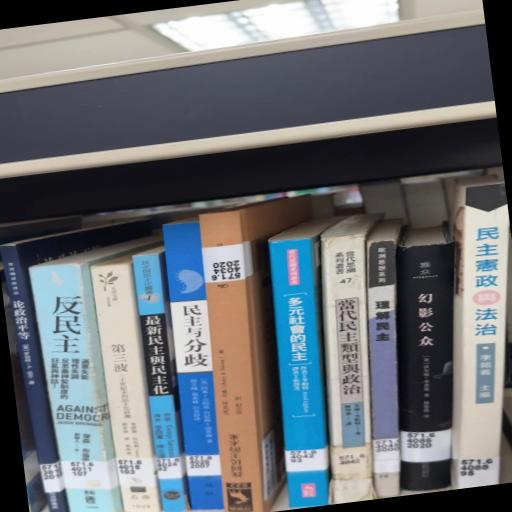reverse: (200, 195, 312, 512)
